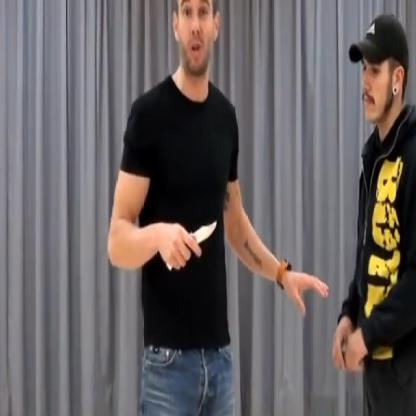knife: (162, 211, 220, 275)
